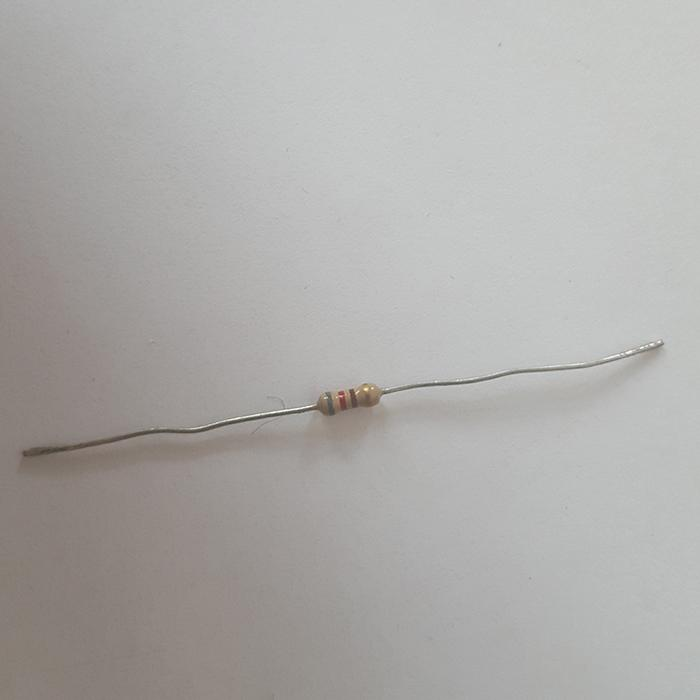resistor: (317, 382, 381, 415)
